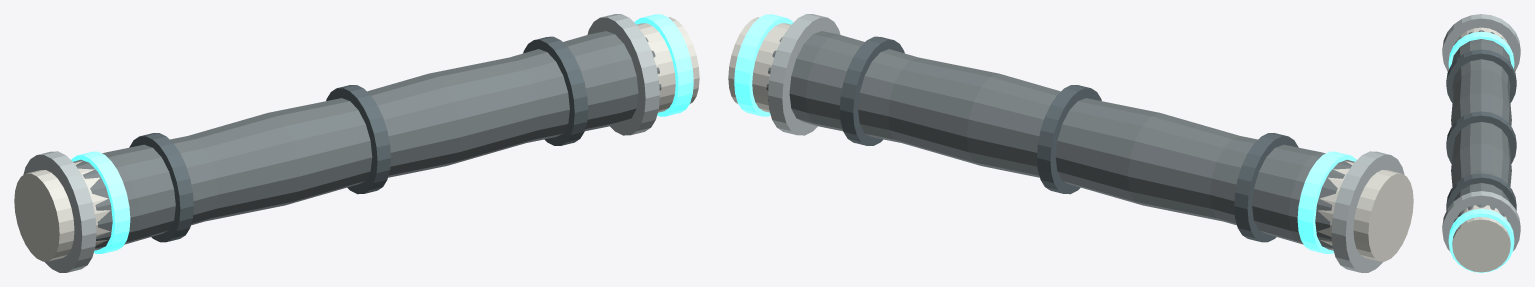
The model's file is s7-i03-hose-straight-0p5m.glb.
3 views of the same model, side by side, from view 1: azimuth 30°, elevation 25°; view 2: azimuth 150°, elevation 25°; view 3: azimuth 270°, elevation 25° (orthographic). The views are drawn at different scales.
Parts seen in each view (by area): view 1: 000_actual_curved_hose_swept_3d, 001_end_0_sealing_socket, 003_end_0_locking_collar, 006_end_1_locking_collar, 008_rib_banding_1, 009_rib_banding_2, 007_rib_banding_0, 005_end_1_cyan_snap_seal, 002_end_0_cyan_snap_seal, 004_end_1_sealing_socket; view 2: 000_actual_curved_hose_swept_3d, 001_end_0_sealing_socket, 003_end_0_locking_collar, 006_end_1_locking_collar, 008_rib_banding_1, 009_rib_banding_2, 007_rib_banding_0, 005_end_1_cyan_snap_seal, 002_end_0_cyan_snap_seal, 004_end_1_sealing_socket; view 3: 000_actual_curved_hose_swept_3d, 004_end_1_sealing_socket, 006_end_1_locking_collar, 003_end_0_locking_collar, 008_rib_banding_1, 007_rib_banding_0, 005_end_1_cyan_snap_seal, 009_rib_banding_2, 002_end_0_cyan_snap_seal, 001_end_0_sealing_socket.
Boxes of the visible parts, <box> form: 000_actual_curved_hose_swept_3d: <box>73,31,661,250</box>; 001_end_0_sealing_socket: <box>14,161,110,261</box>; 003_end_0_locking_collar: <box>23,151,96,272</box>; 006_end_1_locking_collar: <box>587,14,659,135</box>; 008_rib_banding_1: <box>326,85,390,194</box>; 009_rib_banding_2: <box>523,36,588,145</box>; 007_rib_banding_0: <box>129,133,193,242</box>; 005_end_1_cyan_snap_seal: <box>634,14,693,116</box>; 002_end_0_cyan_snap_seal: <box>71,151,130,253</box>; 004_end_1_sealing_socket: <box>637,17,699,112</box>; 000_actual_curved_hose_swept_3d: <box>766,31,1354,250</box>; 001_end_0_sealing_socket: <box>1317,161,1413,261</box>; 003_end_0_locking_collar: <box>1331,151,1404,272</box>; 006_end_1_locking_collar: <box>768,14,840,135</box>; 008_rib_banding_1: <box>1037,85,1101,194</box>; 009_rib_banding_2: <box>839,36,904,145</box>; 007_rib_banding_0: <box>1234,133,1298,242</box>; 005_end_1_cyan_snap_seal: <box>734,14,793,116</box>; 002_end_0_cyan_snap_seal: <box>1297,151,1356,253</box>; 004_end_1_sealing_socket: <box>728,17,790,112</box>; 000_actual_curved_hose_swept_3d: <box>1451,30,1511,221</box>; 004_end_1_sealing_socket: <box>1452,205,1510,272</box>; 006_end_1_locking_collar: <box>1442,191,1520,251</box>; 003_end_0_locking_collar: <box>1442,14,1520,71</box>; 008_rib_banding_1: <box>1446,111,1516,163</box>; 007_rib_banding_0: <box>1446,49,1516,102</box>; 005_end_1_cyan_snap_seal: <box>1448,208,1514,272</box>; 009_rib_banding_2: <box>1446,173,1516,210</box>; 002_end_0_cyan_snap_seal: <box>1448,31,1514,68</box>; 001_end_0_sealing_socket: <box>1454,27,1508,44</box>.
Bounding box in the file's own units: 0.568 × 0.0935 × 0.0935.
